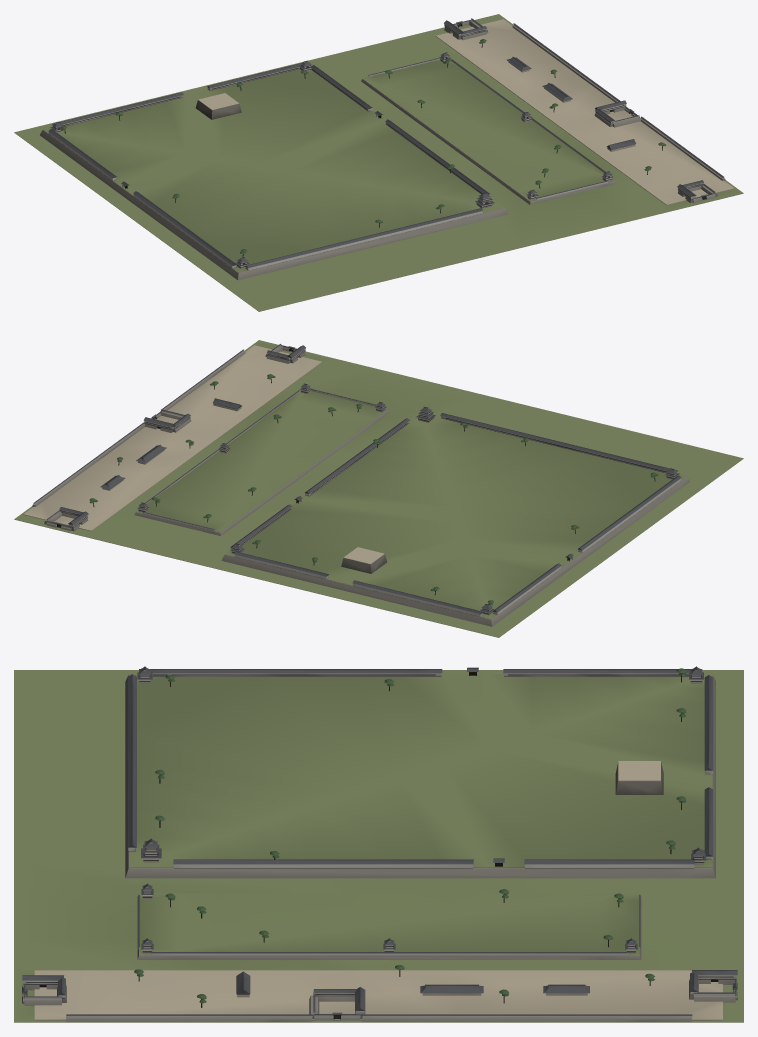
File: edo-castle-1872.glb
3 views of the same model, one above another, from view 1: azimuth 30°, elevation 25°; view 2: azimuth 150°, elevation 25°; view 3: azimuth 270°, elevation 25° (orthographic). The views are drawn at different scales.
Parts seen in each view (by area): view 1: p0_ishigaki, p1_walls, p2_palaces; view 2: p0_ishigaki, p1_walls, p2_palaces; view 3: p0_ishigaki, p1_walls, p2_palaces.
Boxes of the visible parts, box(x1,y1,x2,y2) form: p0_ishigaki: box(14, 14, 743, 311); p1_walls: box(48, 18, 725, 270); p2_palaces: box(61, 39, 665, 257); p0_ishigaki: box(14, 340, 743, 637); p1_walls: box(32, 344, 681, 616); p2_palaces: box(89, 374, 658, 605); p0_ishigaki: box(14, 670, 743, 1022); p1_walls: box(22, 666, 737, 1021); p2_palaces: box(134, 668, 686, 1007).
Size of the model in its own units: 800 by 29.88 by 700.
